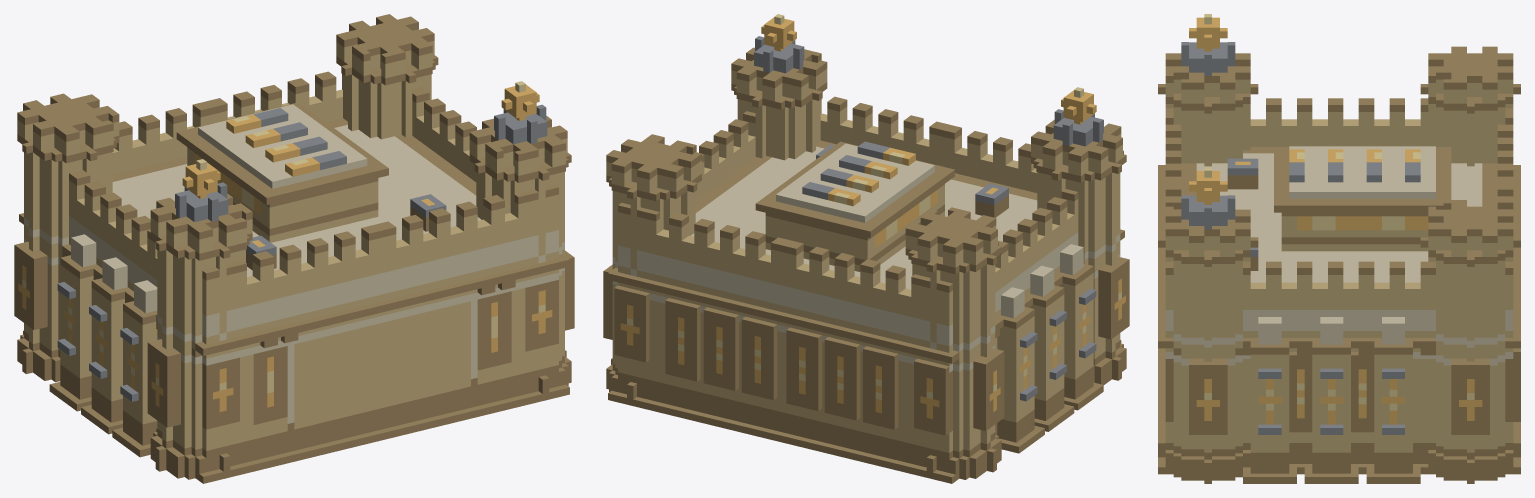
File: blockhouse.glb
3 renders of one model, left to right at view 1: azimuth 30°, elevation 25°; view 2: azimuth 150°, elevation 25°; view 3: azimuth 270°, elevation 25°, orthographic. The views are drawn at different scales.
Size of the model in its own units: 60 by 42 by 47.
